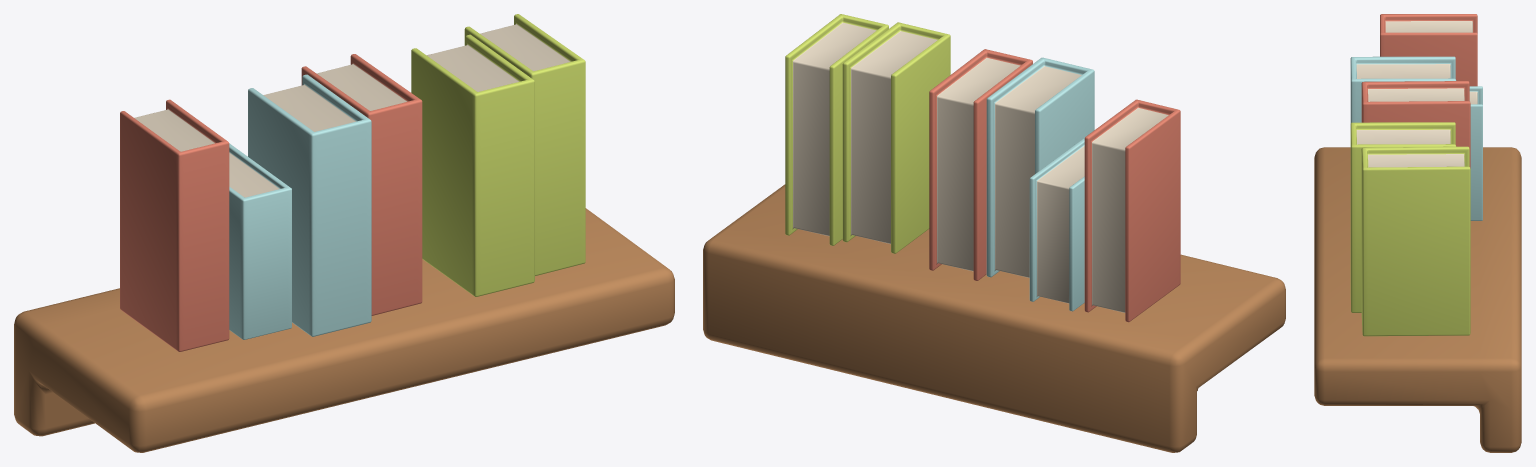
Rendered from book.gltf.
3 views of the same model, side by side, from view 1: azimuth 30°, elevation 25°; view 2: azimuth 150°, elevation 25°; view 3: azimuth 270°, elevation 25° (orthographic). The views are drawn at different scales.
Parts seen in each view (by area): view 1: Book, BookShelf; view 2: Book, BookShelf; view 3: Book, BookShelf.
Boxes of the visible parts, x1,y1,x2,y2 form: Book: (120, 14, 585, 351); BookShelf: (14, 208, 674, 452); Book: (785, 14, 1180, 322); BookShelf: (703, 184, 1285, 452); Book: (1350, 14, 1482, 336); BookShelf: (1314, 147, 1521, 452).
Size of the model in its own units: 1 by 0.5574 by 0.4.
